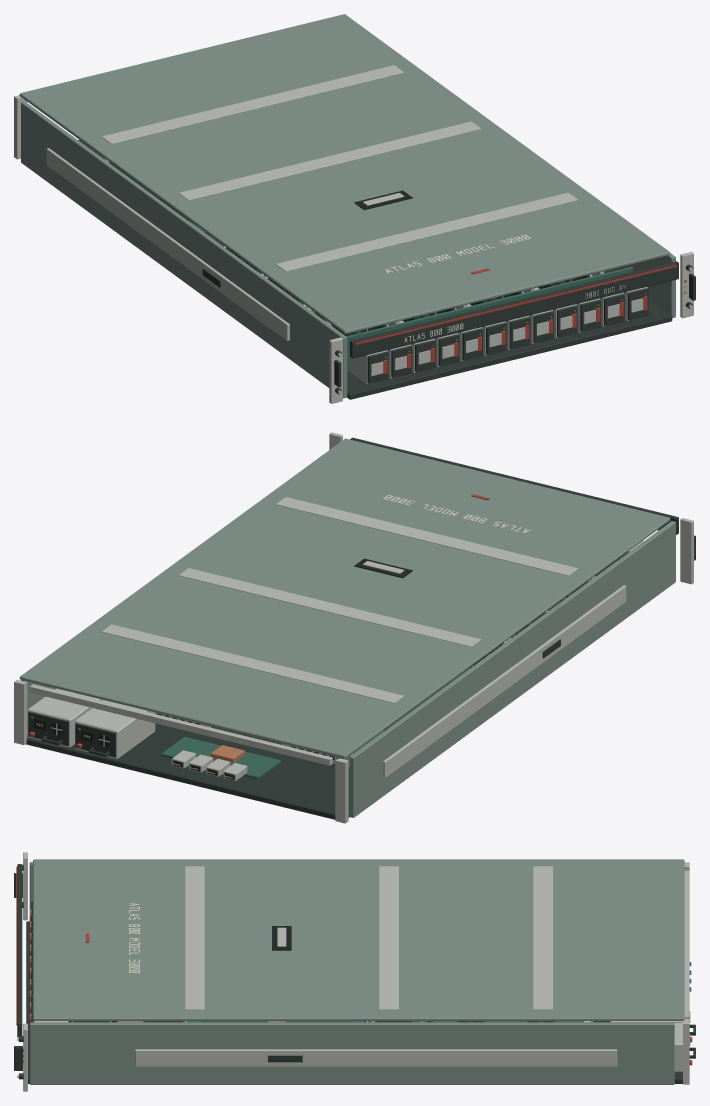
Rendered from atlas-800-3000.glb.
3 renders of one model, top to bottom at view 1: azimuth 30°, elevation 25°; view 2: azimuth 150°, elevation 25°; view 3: azimuth 270°, elevation 25°, orthographic.
Visible parts, largest first — view 1: Atlas_800_3000_lid / Lid / sage grey, Atlas_800_3000 / Lid / sage grey, Atlas_800_3000 / Charcoal / soft enamel, Atlas_800_3000_lid / Silver / warm satin, Atlas_800_3000 / Silver / warm satin, Atlas_800_3000_drives / Charcoal / soft enamel, Atlas_800_3000_drives / Silver / warm satin, Atlas_800_3000_drives / PCB / jade enamel, Atlas_800_3000 / Atlas / vermilion accent, Atlas_800_3000_drives / Atlas / vermilion accent; view 2: Atlas_800_3000_lid / Lid / sage grey, Atlas_800_3000 / Lid / sage grey, Atlas_800_3000 / Silver / warm satin, Atlas_800_3000 / Charcoal / soft enamel, Atlas_800_3000_lid / Silver / warm satin, Atlas_800_3000_power / Silver / warm satin, Atlas_800_3000_power / Charcoal / soft enamel, Atlas_800_3000_network / PCB / jade enamel, Atlas_800_3000_network / Silver / warm satin; view 3: Atlas_800_3000_lid / Lid / sage grey, Atlas_800_3000 / Lid / sage grey, Atlas_800_3000 / Silver / warm satin, Atlas_800_3000_lid / Silver / warm satin, Atlas_800_3000 / Charcoal / soft enamel, Atlas_800_3000_power / Silver / warm satin, Atlas_800_3000_lid / Lettering / cream.
Part boxes in pixels (bbox=[...]): Atlas_800_3000_lid / Lid / sage grey: bbox=[19, 14, 670, 334]; Atlas_800_3000 / Lid / sage grey: bbox=[21, 101, 675, 398]; Atlas_800_3000 / Charcoal / soft enamel: bbox=[78, 140, 695, 399]; Atlas_800_3000_lid / Silver / warm satin: bbox=[102, 65, 577, 271]; Atlas_800_3000 / Silver / warm satin: bbox=[14, 95, 693, 403]; Atlas_800_3000_drives / Charcoal / soft enamel: bbox=[367, 288, 648, 383]; Atlas_800_3000_drives / Silver / warm satin: bbox=[350, 286, 647, 384]; Atlas_800_3000_drives / PCB / jade enamel: bbox=[346, 266, 633, 372]; Atlas_800_3000 / Atlas / vermilion accent: bbox=[355, 265, 686, 345]; Atlas_800_3000_drives / Atlas / vermilion accent: bbox=[383, 296, 647, 374]; Atlas_800_3000_lid / Lid / sage grey: bbox=[19, 438, 670, 758]; Atlas_800_3000 / Lid / sage grey: bbox=[21, 521, 675, 817]; Atlas_800_3000 / Silver / warm satin: bbox=[14, 432, 693, 823]; Atlas_800_3000 / Charcoal / soft enamel: bbox=[25, 437, 695, 819]; Atlas_800_3000_lid / Silver / warm satin: bbox=[101, 497, 578, 703]; Atlas_800_3000_power / Silver / warm satin: bbox=[27, 688, 155, 758]; Atlas_800_3000_power / Charcoal / soft enamel: bbox=[28, 712, 115, 757]; Atlas_800_3000_network / PCB / jade enamel: bbox=[161, 737, 280, 779]; Atlas_800_3000_network / Silver / warm satin: bbox=[172, 750, 247, 780]; Atlas_800_3000_lid / Lid / sage grey: bbox=[33, 859, 684, 1020]; Atlas_800_3000 / Lid / sage grey: bbox=[29, 862, 674, 1084]; Atlas_800_3000 / Silver / warm satin: bbox=[17, 852, 689, 1091]; Atlas_800_3000_lid / Silver / warm satin: bbox=[184, 866, 552, 1009]; Atlas_800_3000 / Charcoal / soft enamel: bbox=[14, 864, 682, 1083]; Atlas_800_3000_power / Silver / warm satin: bbox=[610, 1011, 690, 1071]; Atlas_800_3000_lid / Lettering / cream: bbox=[129, 903, 139, 972].
Bounding box in the file's own units: 5.07 × 0.916 × 8.25.
